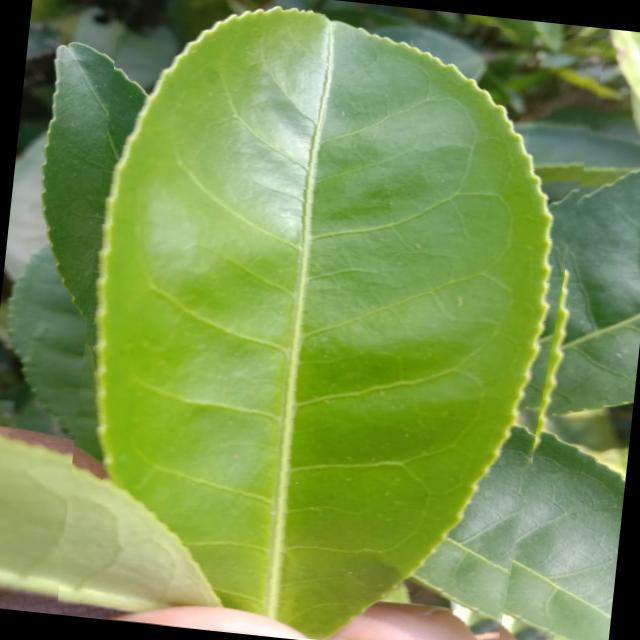Category B(2-4 days): (56, 0, 607, 640)
